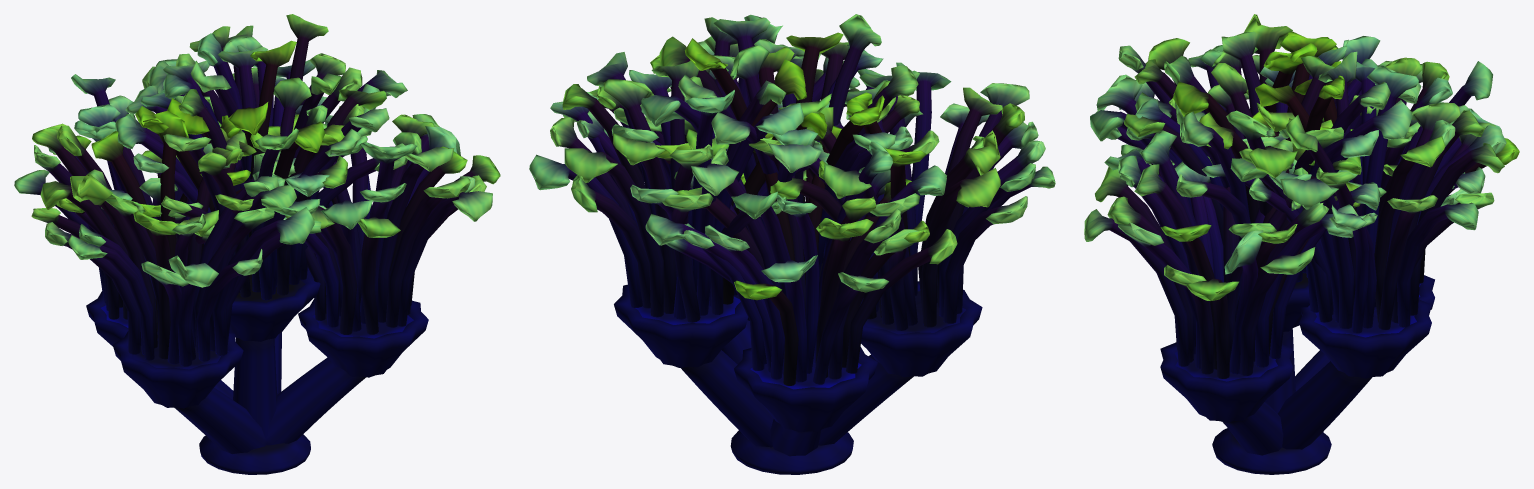
File: reef-euphyllia-anchor-hammer.glb
3 views of the same model, side by side, from view 1: azimuth 30°, elevation 25°; view 2: azimuth 150°, elevation 25°; view 3: azimuth 270°, elevation 25° (orthographic). The views are drawn at different scales.
Parts seen in each view (by area): view 1: Reef_Euphyllia_Anchor_Hammer; view 2: Reef_Euphyllia_Anchor_Hammer; view 3: Reef_Euphyllia_Anchor_Hammer.
Part boxes in pixels (<box>): Reef_Euphyllia_Anchor_Hammer: <box>14,14,500,474</box>; Reef_Euphyllia_Anchor_Hammer: <box>529,14,1055,474</box>; Reef_Euphyllia_Anchor_Hammer: <box>1084,14,1519,474</box>.
Size of the model in its own units: 0.1709 by 0.148 by 0.1423.
2 materials, 2 textured.
